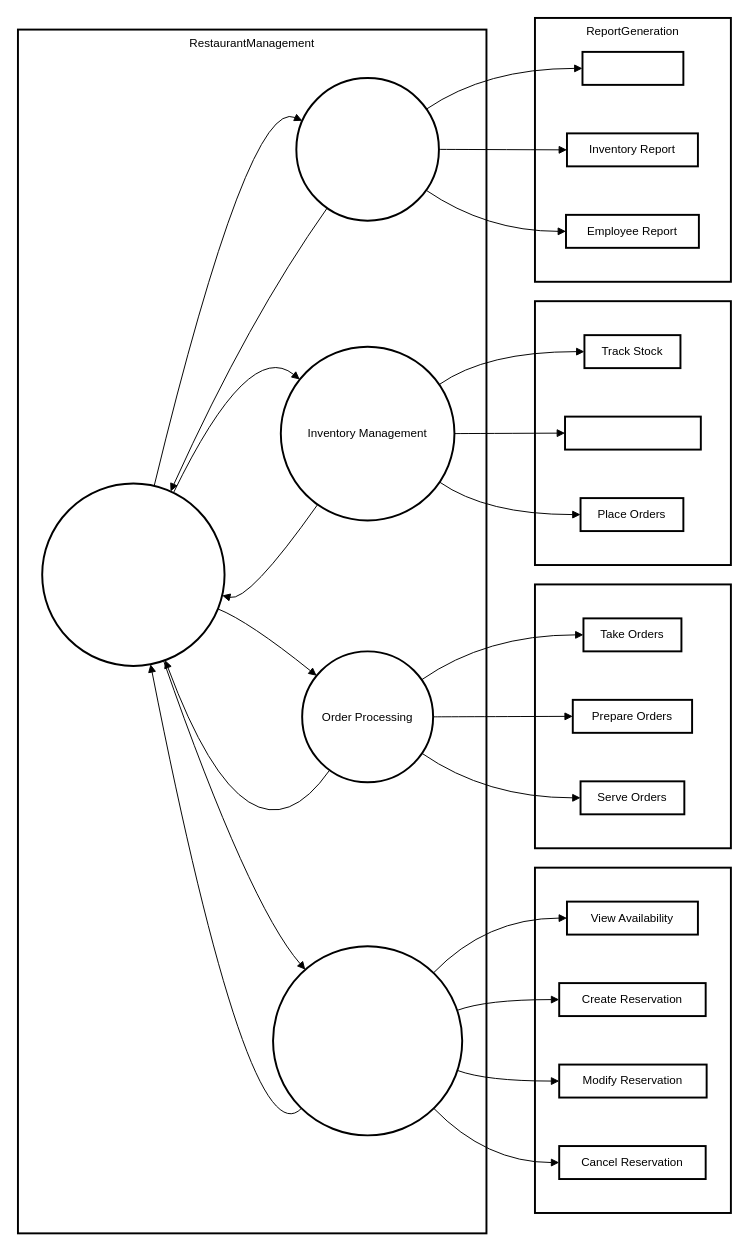
Some shapes in this 748 by 1250 pixel diagram are drawn without their labels. Each missing label, with the box of its shape:
InventoryManagement: (534, 300, 731, 566)
Manage Suppliers: (564, 415, 701, 450)
OrderProcessing: (534, 583, 731, 849)
Report Generation: (295, 77, 439, 221)
Reservation Management: (272, 945, 463, 1136)
ReservationManagement: (534, 866, 731, 1213)
Restaurant Management: (41, 482, 225, 666)
Sales Report: (581, 50, 684, 85)
